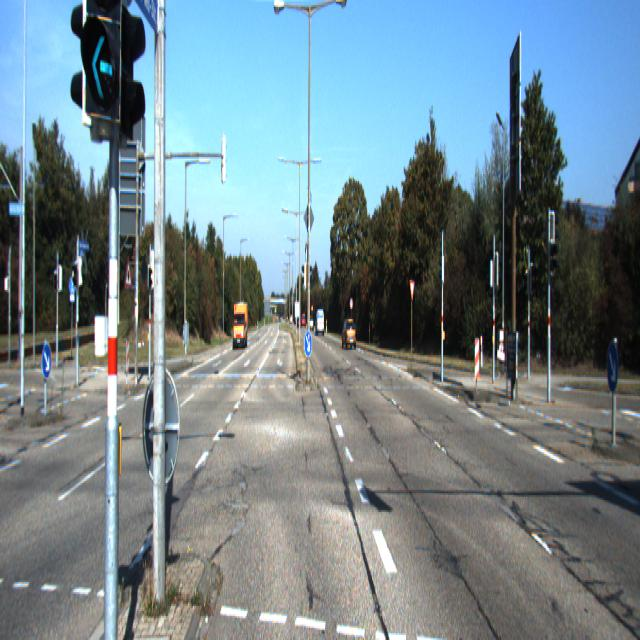Car: (231, 303, 248, 352), (341, 317, 356, 350)
